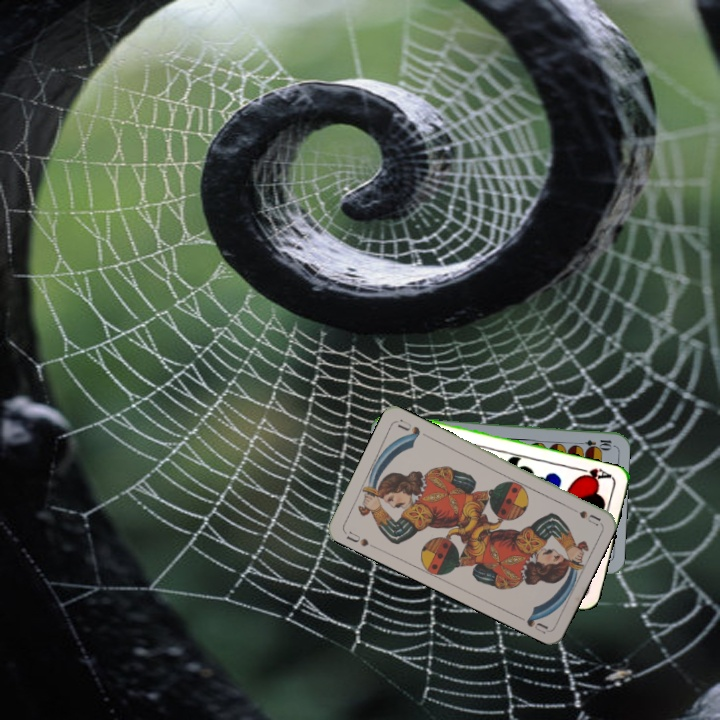E10: (574, 436, 614, 450)
HA: (574, 464, 614, 485)
SU: (575, 506, 603, 529), (342, 527, 371, 549)
